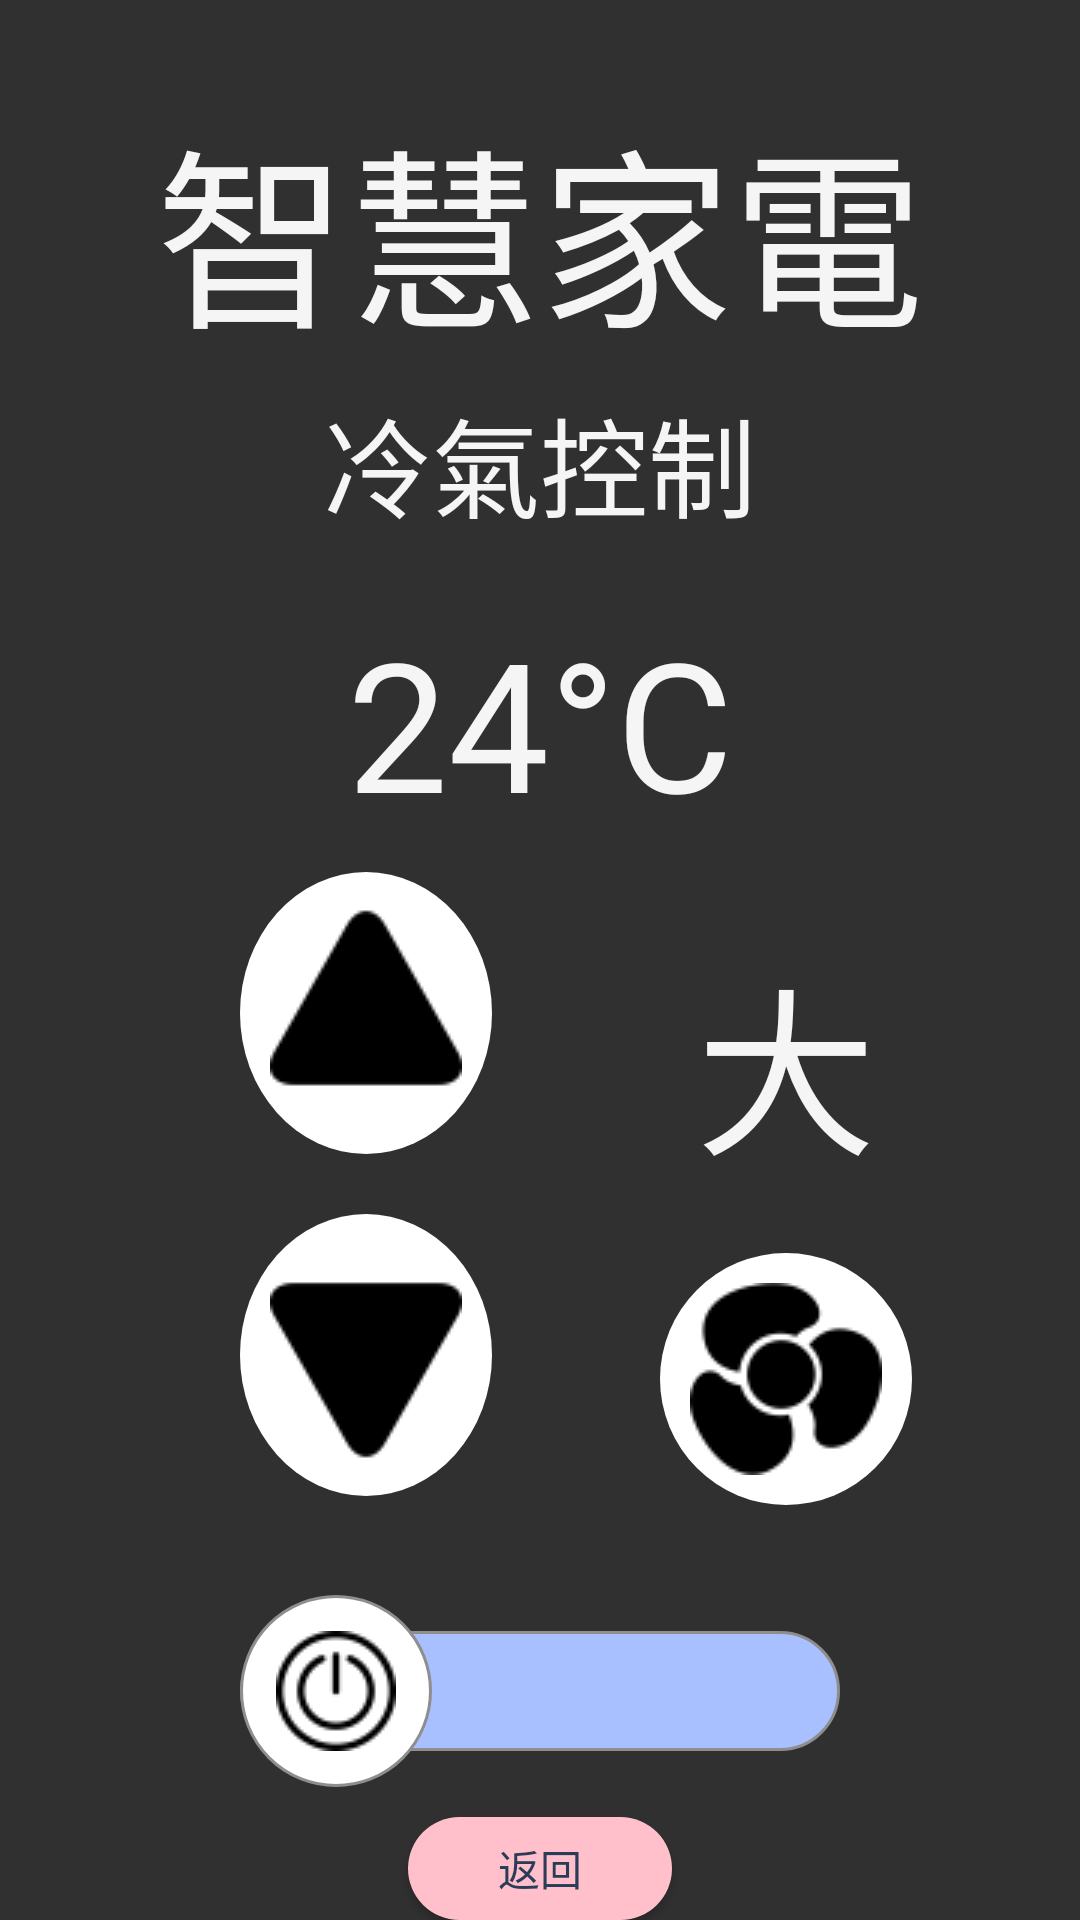

Where icons sit on this 1080x1920 app screen, as (x1, y1, x2, y2):
down arrow: (240, 1214, 492, 1496)
fan: (660, 1253, 912, 1505)
up arrow: (240, 872, 492, 1154)
